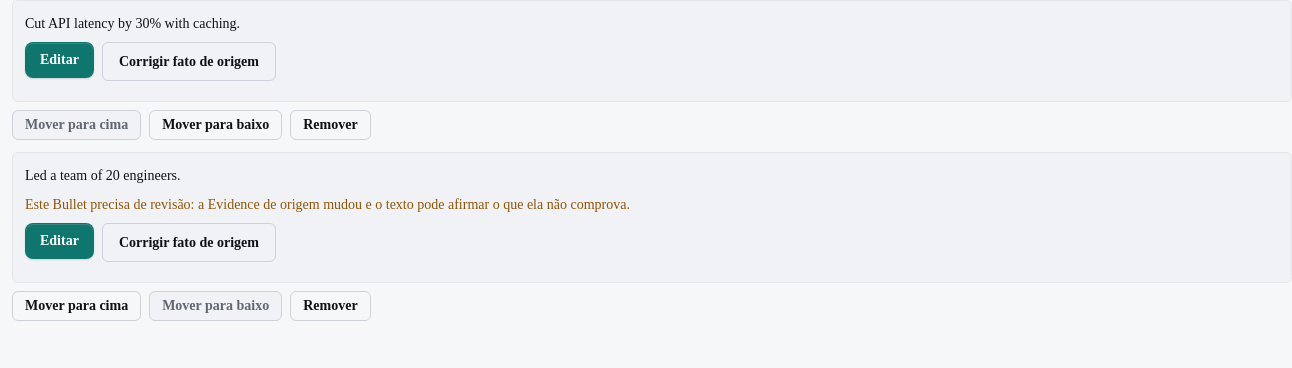
it: BulletList › should move the bullet and keep focus on the same button
Step 1. Click the button with aria-label "Mover para baixo o Bullet 1:" → (216, 125), box [149,110,282,140]
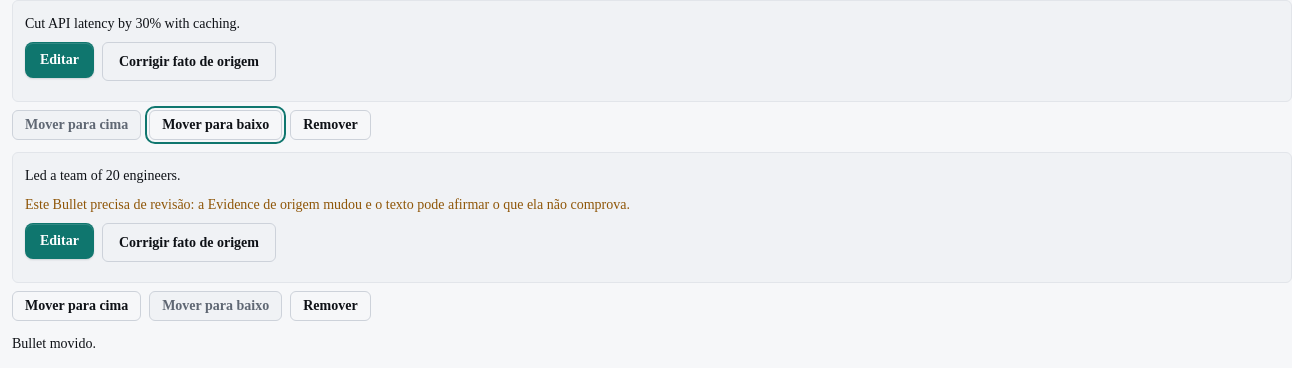
Check: the text "Bullet movido." is shown, box [12,336,96,351]
